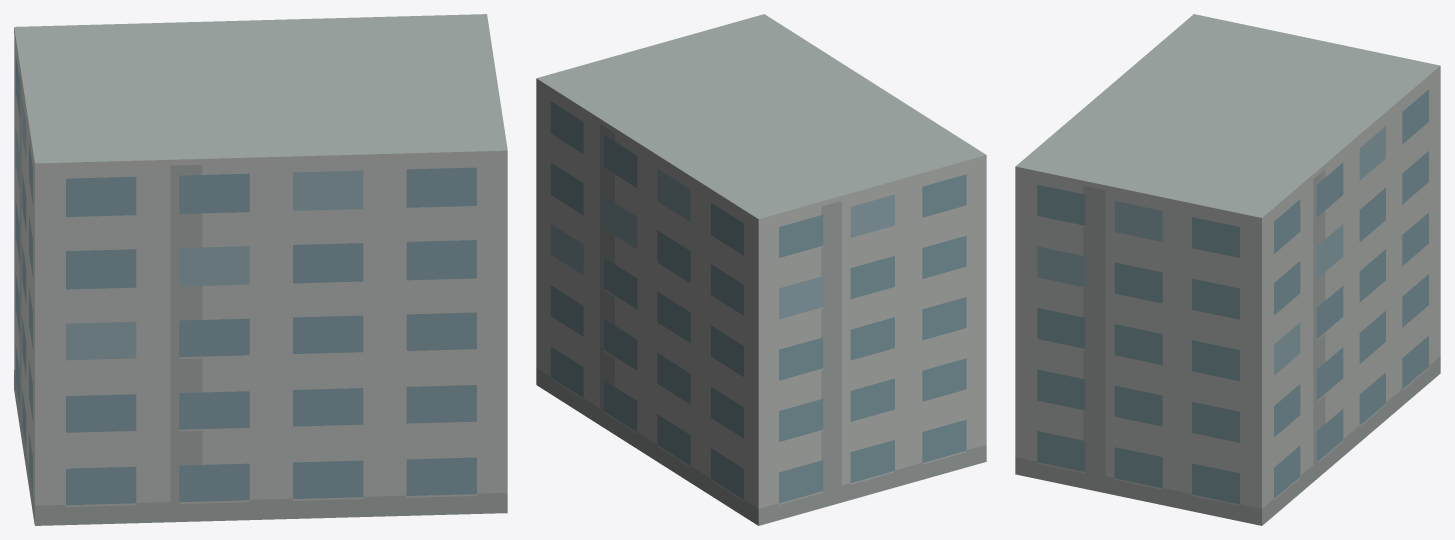
File: residential-143380df-546e-4352-b7ac-2bb083f237dc.glb
The picture shows the model from 3 angles, left to right: view 1: azimuth 30°, elevation 25°; view 2: azimuth 150°, elevation 25°; view 3: azimuth 270°, elevation 25°; orthographic projection. The views are drawn at different scales.
Parts seen in each view (by area): view 1: residential-143380df-546e-4352-b7ac-2bb083f237dc.tmp; view 2: residential-143380df-546e-4352-b7ac-2bb083f237dc.tmp; view 3: residential-143380df-546e-4352-b7ac-2bb083f237dc.tmp.
Part boxes in pixels (x1,y1,x2,y2): residential-143380df-546e-4352-b7ac-2bb083f237dc.tmp: (14, 14, 507, 525); residential-143380df-546e-4352-b7ac-2bb083f237dc.tmp: (536, 14, 986, 525); residential-143380df-546e-4352-b7ac-2bb083f237dc.tmp: (1015, 14, 1440, 525).
Bounding box in the file's own units: 21.33 × 15 × 18.78.
